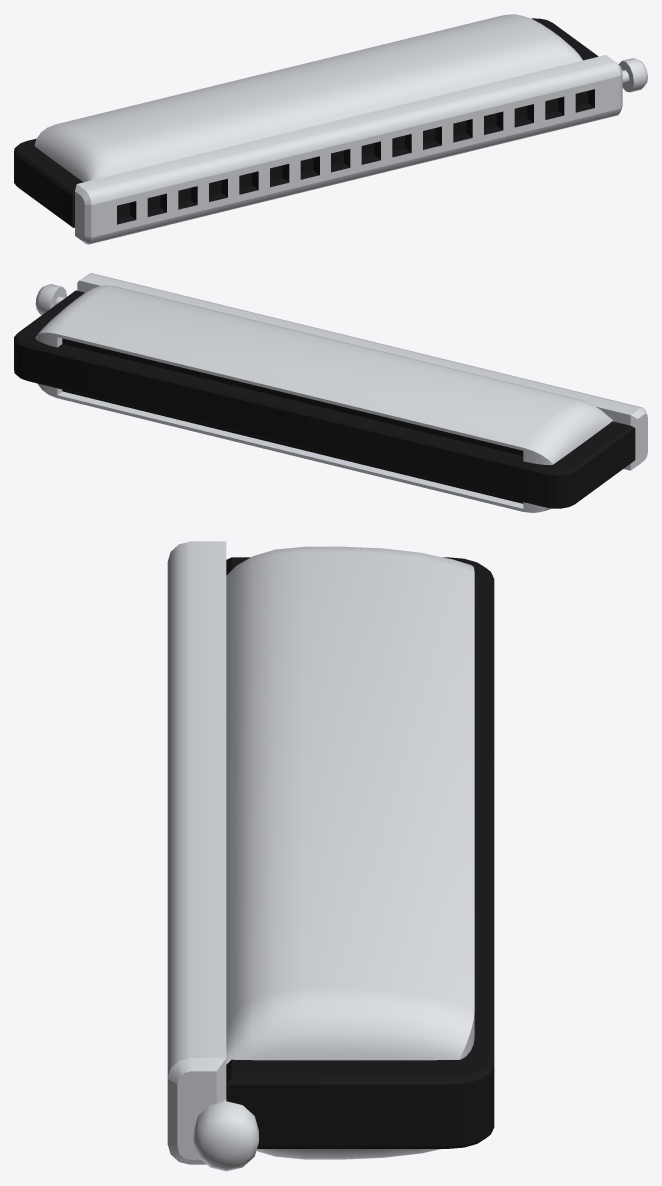
The model's file is worm_instr_harmonica.glb.
The picture shows the model from 3 angles, top to bottom: view 1: azimuth 30°, elevation 25°; view 2: azimuth 150°, elevation 25°; view 3: azimuth 270°, elevation 25°; orthographic projection. The views are drawn at different scales.
Parts seen in each view (by area): view 1: worm_instr_harmonica; view 2: worm_instr_harmonica; view 3: worm_instr_harmonica.
Boxes of the visible parts, x1,y1,x2,y2 form: worm_instr_harmonica: [14, 14, 647, 244]; worm_instr_harmonica: [14, 273, 647, 512]; worm_instr_harmonica: [167, 541, 494, 1171].
Size of the model in its own units: 0.202 by 0.028 by 0.05.
2 materials, 2 textured.
